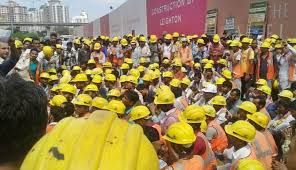face: (227, 133, 246, 150), (138, 40, 145, 46)
helmet: (163, 121, 197, 145), (225, 119, 256, 143), (182, 104, 206, 121), (152, 88, 175, 104), (73, 91, 94, 107), (128, 104, 150, 119), (238, 98, 256, 113), (106, 99, 124, 114), (276, 86, 294, 98), (71, 72, 89, 82), (210, 94, 226, 105), (61, 83, 77, 93), (119, 74, 135, 83), (257, 85, 271, 94), (104, 72, 116, 81), (107, 86, 119, 95), (48, 73, 59, 82), (137, 55, 149, 63), (149, 33, 158, 43), (170, 78, 180, 87), (257, 76, 267, 85), (142, 73, 153, 81), (211, 32, 220, 41), (93, 41, 102, 50), (86, 57, 96, 65), (160, 71, 173, 77), (71, 64, 82, 71), (230, 41, 242, 47), (43, 46, 51, 55), (119, 62, 129, 69), (195, 37, 205, 44), (137, 34, 146, 41), (163, 32, 172, 39), (148, 63, 157, 70), (120, 38, 128, 45), (261, 41, 270, 47), (110, 36, 118, 41)
human: (161, 121, 214, 169), (223, 118, 259, 168)
vest: (255, 127, 277, 163), (168, 154, 210, 170)
